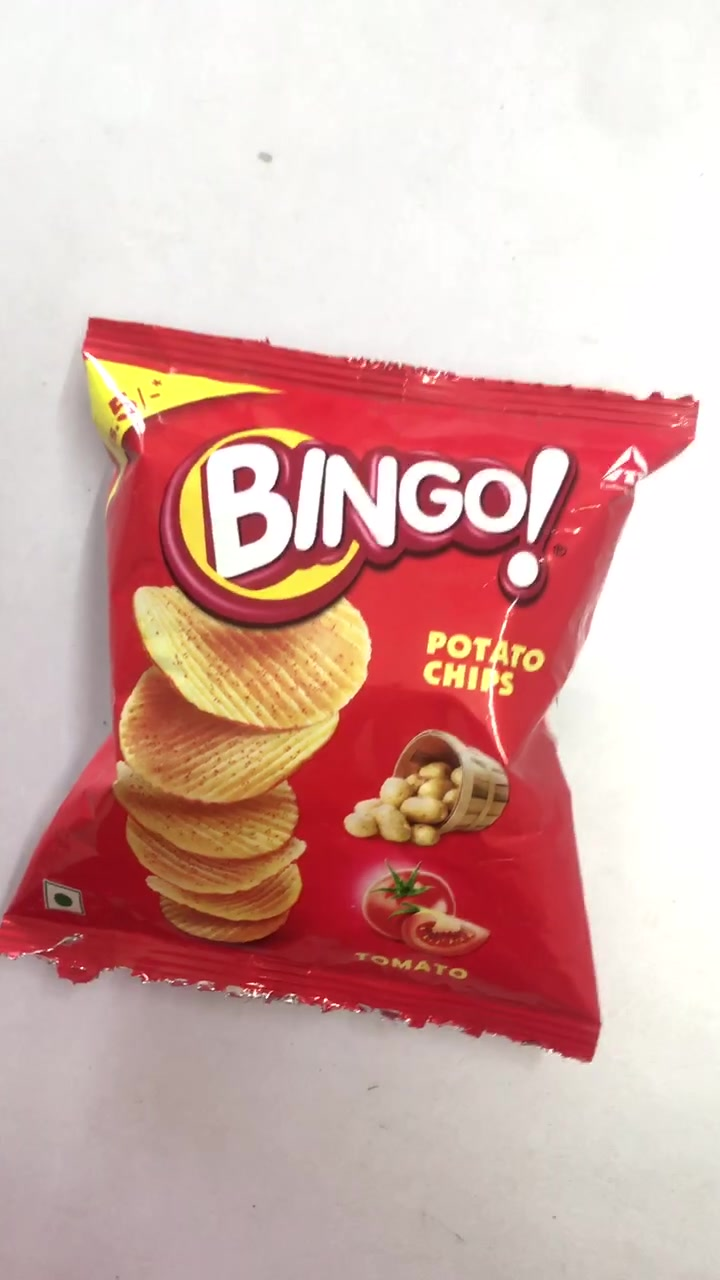Bingo: (5, 324, 691, 1059)
